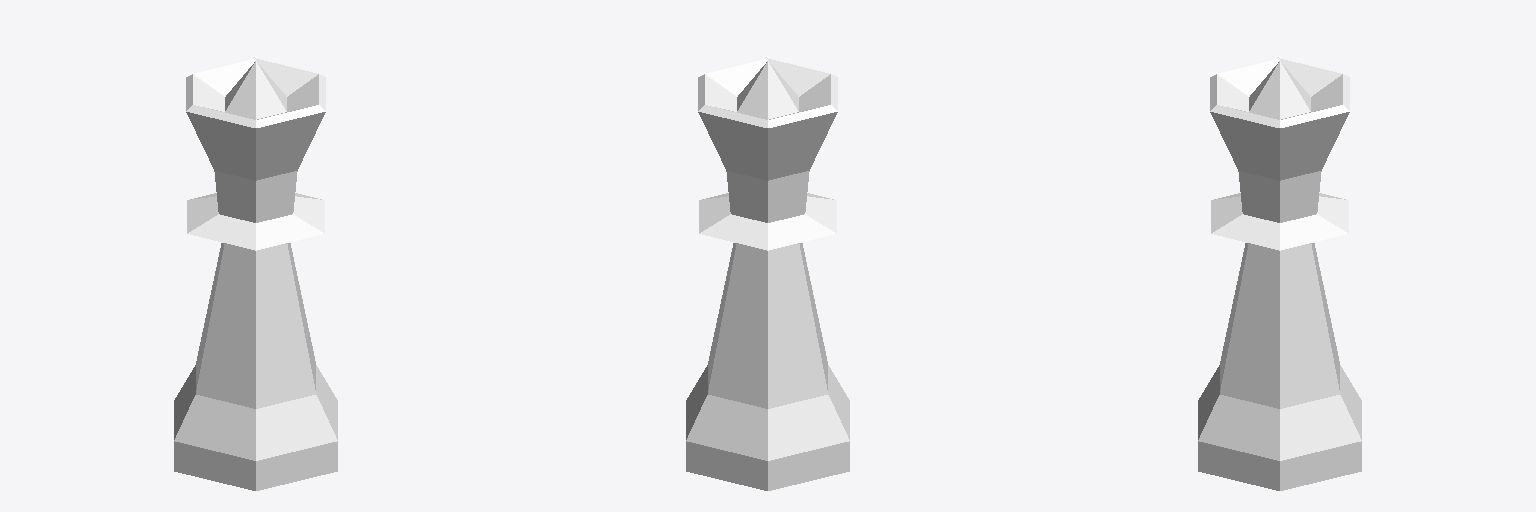
The model's file is queen.obj.
The picture shows the model from 3 angles: view 1: azimuth 30°, elevation 25°; view 2: azimuth 150°, elevation 25°; view 3: azimuth 270°, elevation 25°; orthographic projection.
Parts seen in each view (by area): view 1: Queen_Sphere.007; view 2: Queen_Sphere.007; view 3: Queen_Sphere.007.
Part boxes in pixels (x1,y1,x2,y2): Queen_Sphere.007: (174,59,337,490); Queen_Sphere.007: (686,59,849,490); Queen_Sphere.007: (1198,59,1361,490).
Size of the model in its own units: 0.2885 by 0.656 by 0.2498.